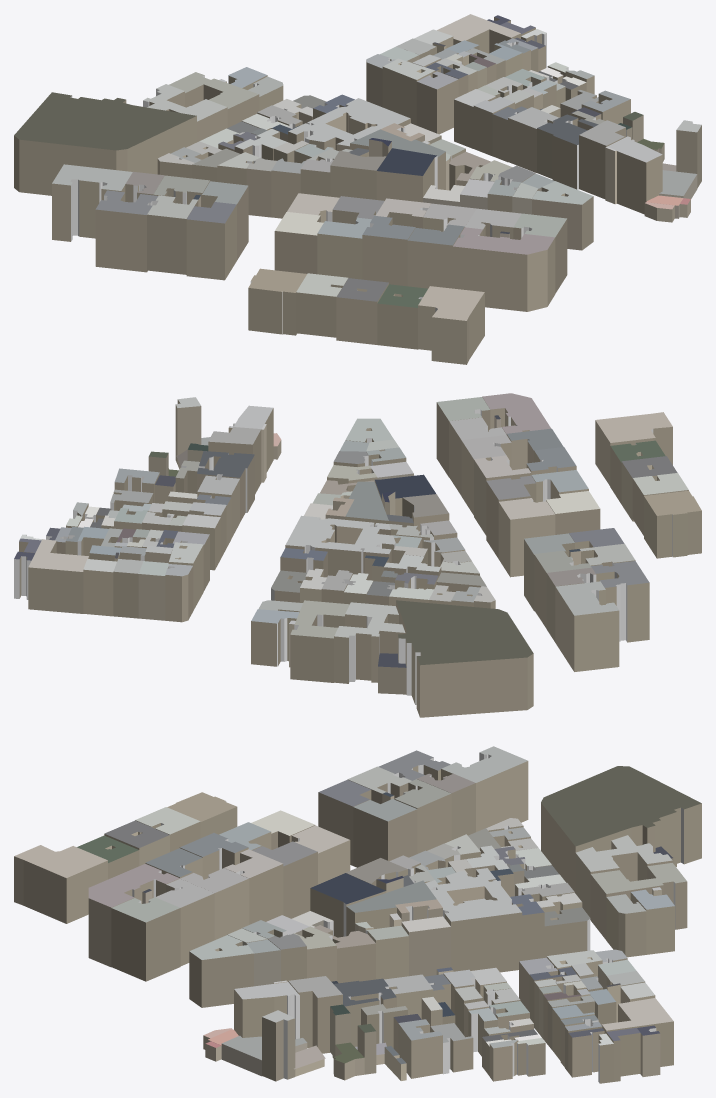
The picture shows the model from 3 angles, top to bottom: view 1: azimuth 30°, elevation 25°; view 2: azimuth 150°, elevation 25°; view 3: azimuth 270°, elevation 25°; orthographic projection. The views are drawn at different scales.
Visible parts, largest first — view 1: tuile; view 2: tuile; view 3: tuile.
Part boxes in pixels (x1,y1,x2,y2): tuile: (14,14,701,364); tuile: (14,393,701,717); tuile: (14,746,701,1083).
Bounding box in the file's own units: 270 × 39.47 × 281.
